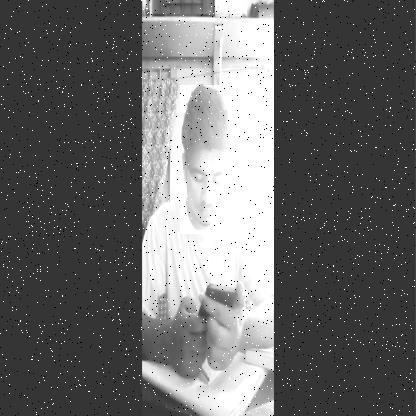Normal: (180, 85, 234, 234)
